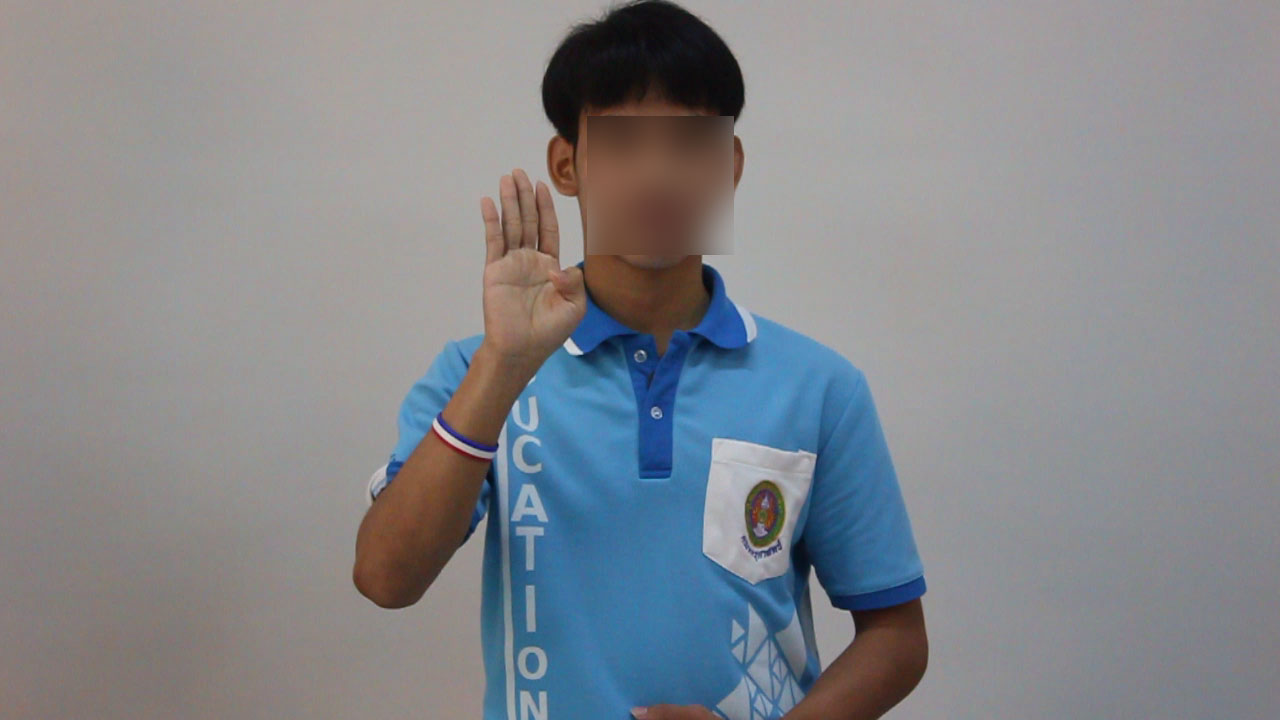bor: (466, 158, 597, 389)
